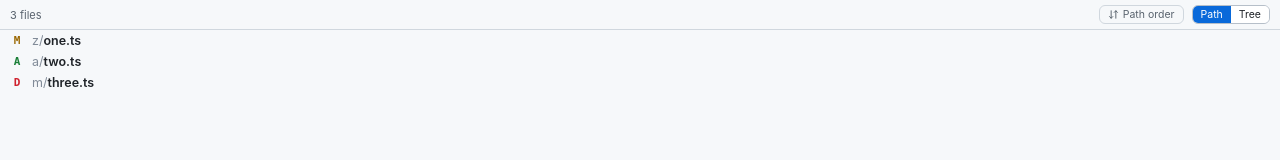
Test case: sorting › hides the control in tree mode, where it would change nothing
Click the button "Tree": (1250,14) [1231,6,1269,23]
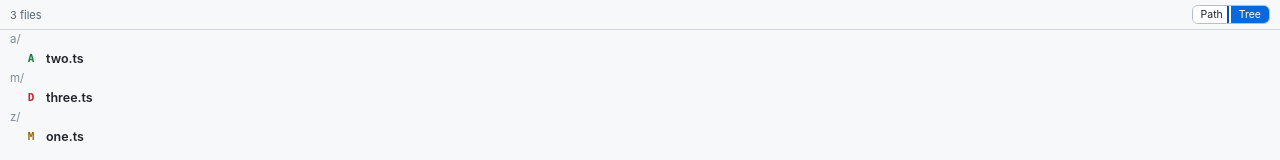
Result: the button "Path order" is gone
